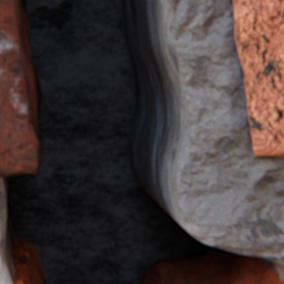brick: (232, 0, 283, 155), (0, 0, 38, 175)
crack: (0, 0, 283, 283)
